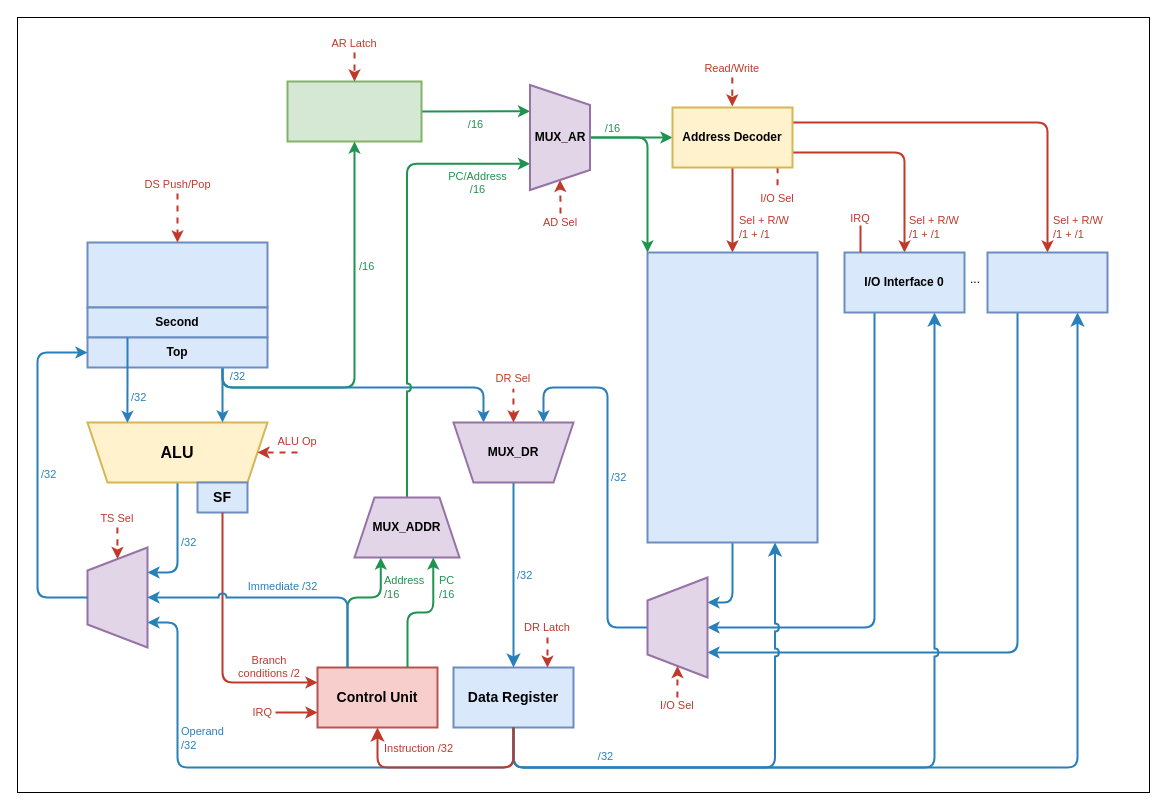
This 1167x810 diagram has some shape labels left out. Each missing label, with the box of its shape:
Address Register: (286, 80, 422, 142)
Data Stack: (86, 241, 268, 308)
I/O Interface N: (986, 251, 1108, 313)
Memory: (646, 251, 818, 543)
MUX_IO: (646, 576, 708, 678)
MUX_TS: (86, 546, 148, 648)
